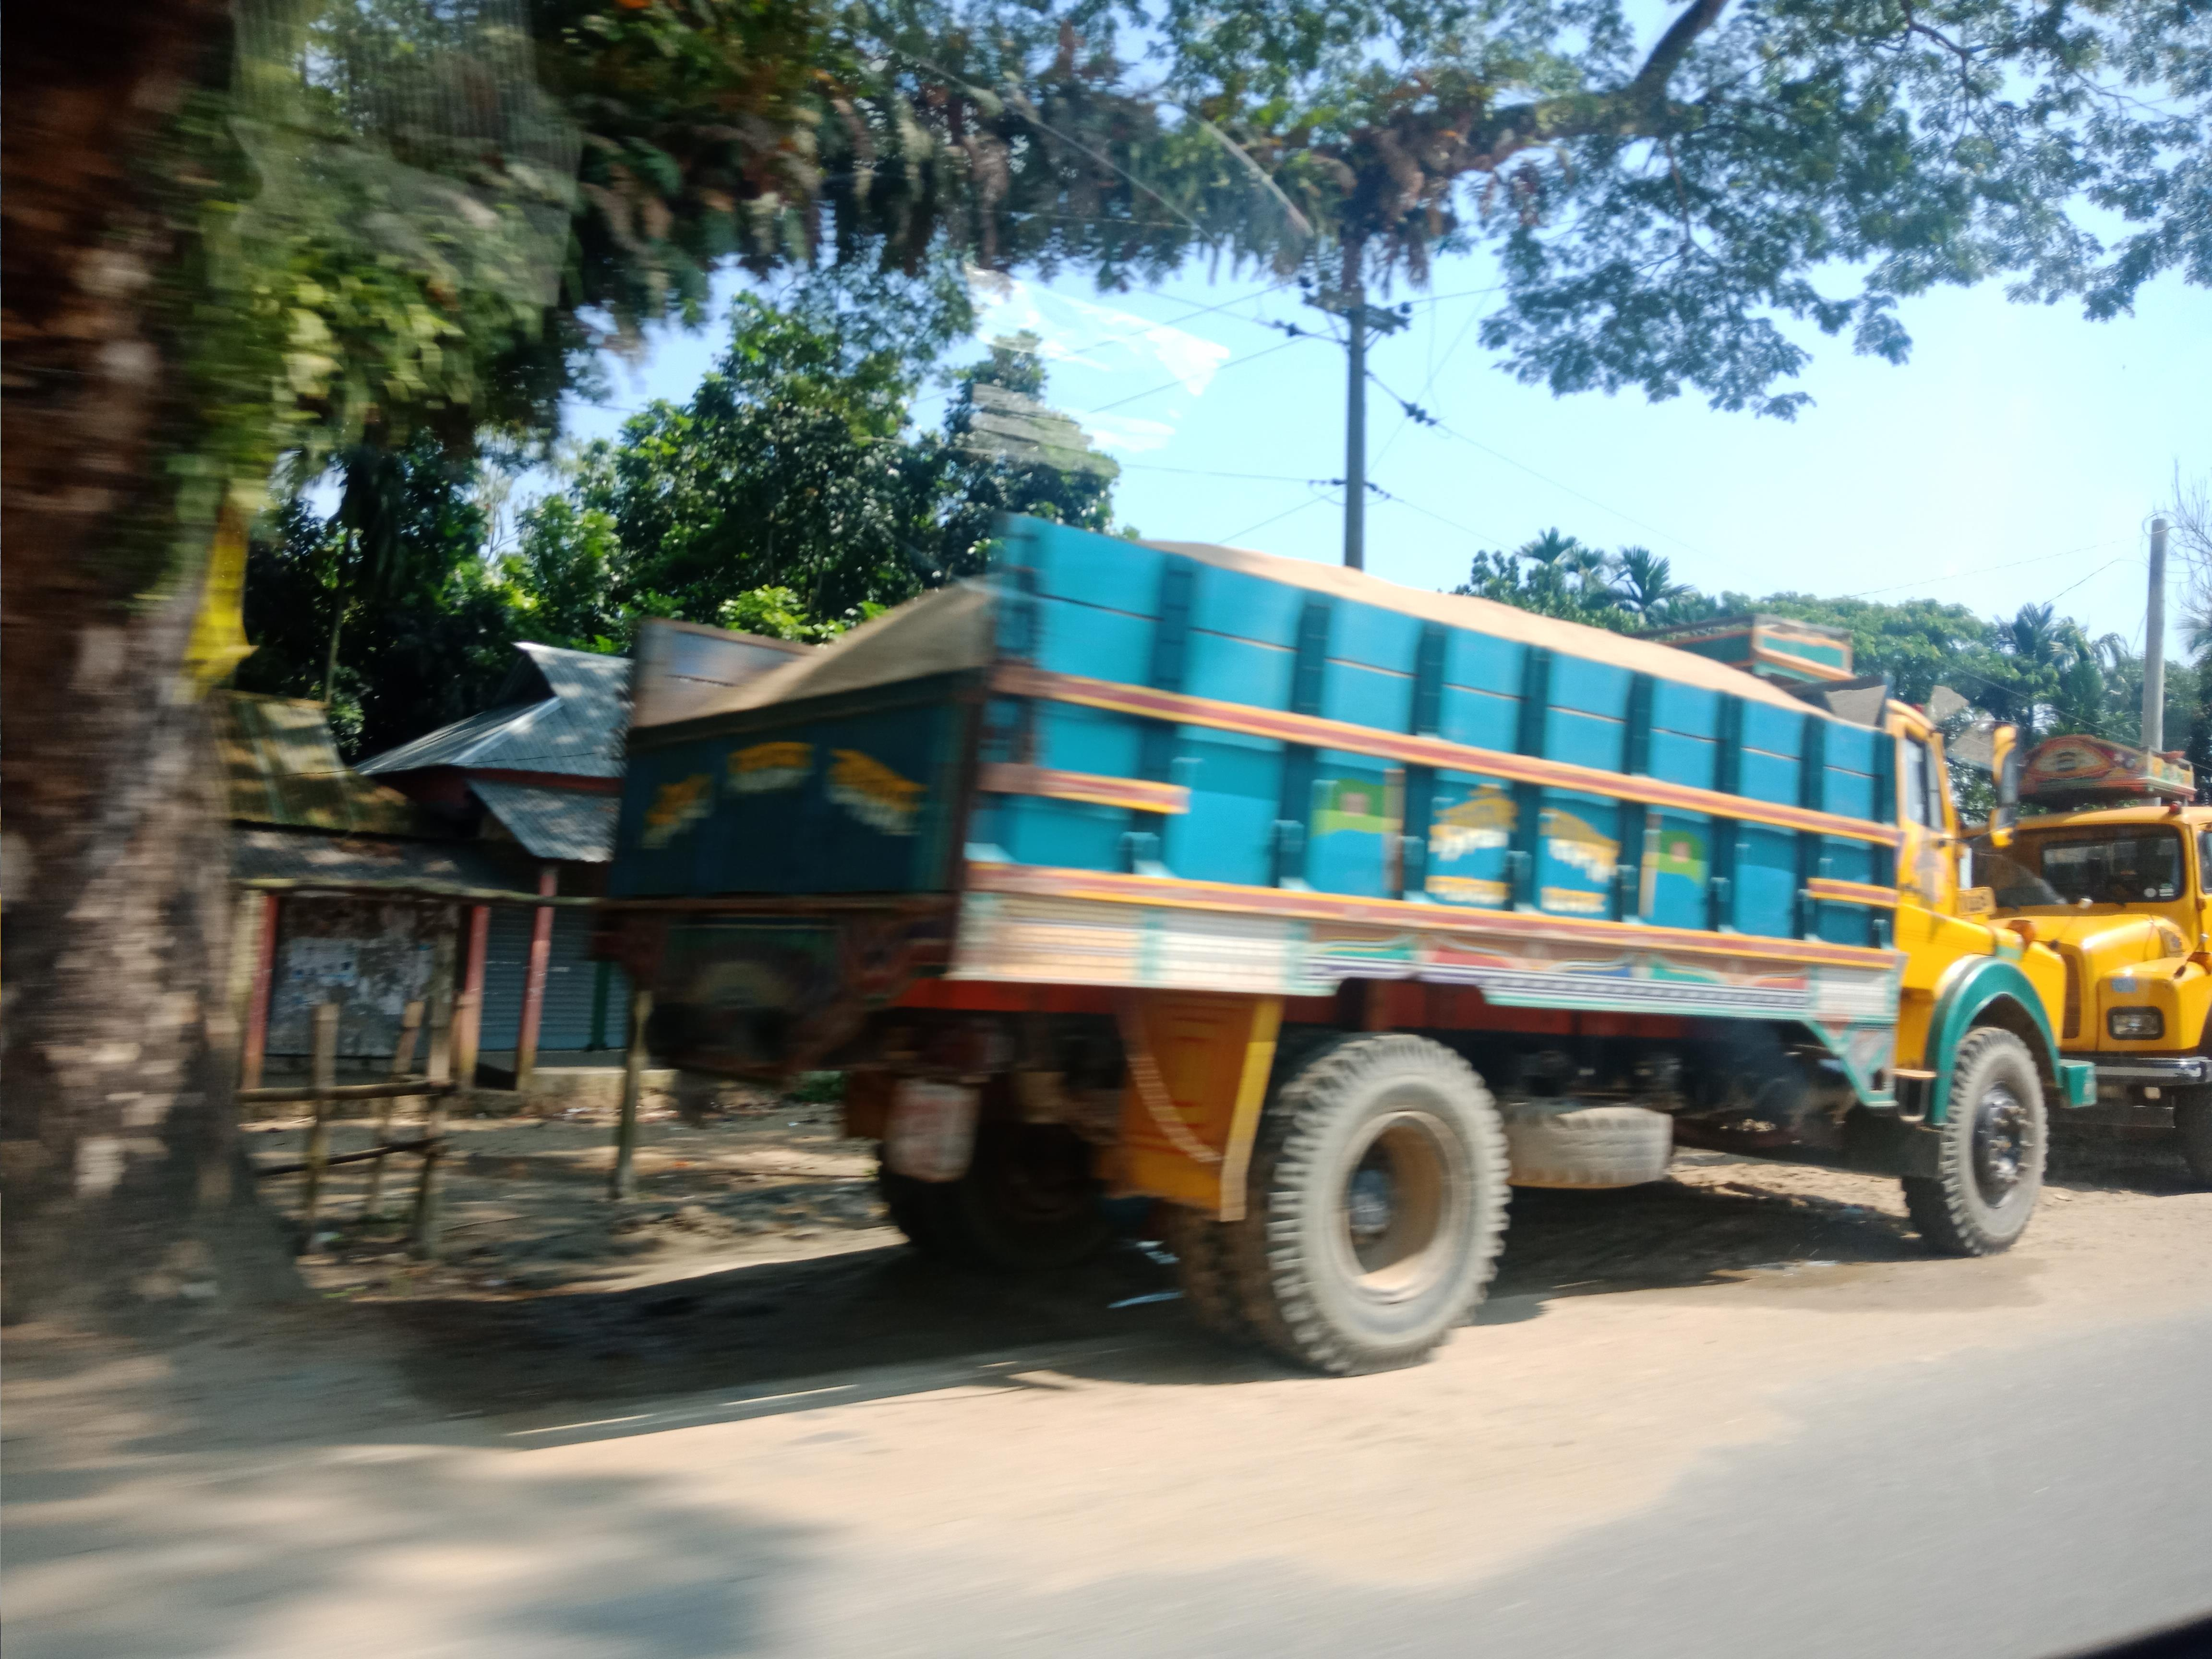truck: (608, 491, 2081, 1337), (1972, 739, 2209, 1176)
